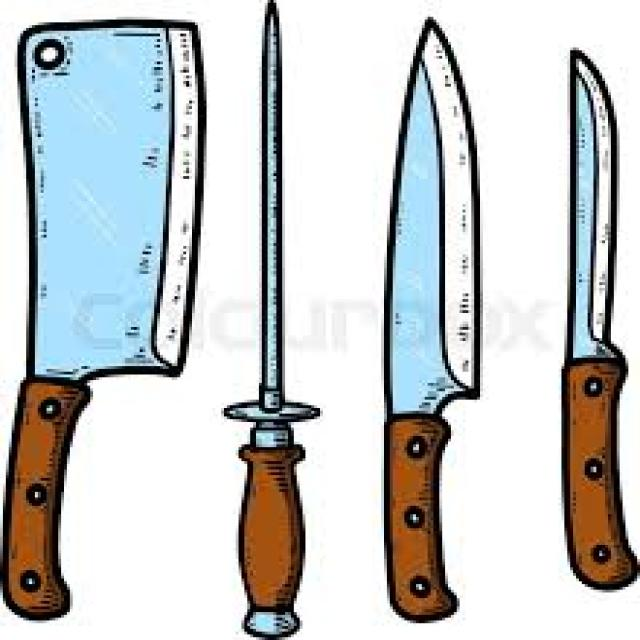Knife: (381, 14, 480, 623), (559, 44, 637, 590)
